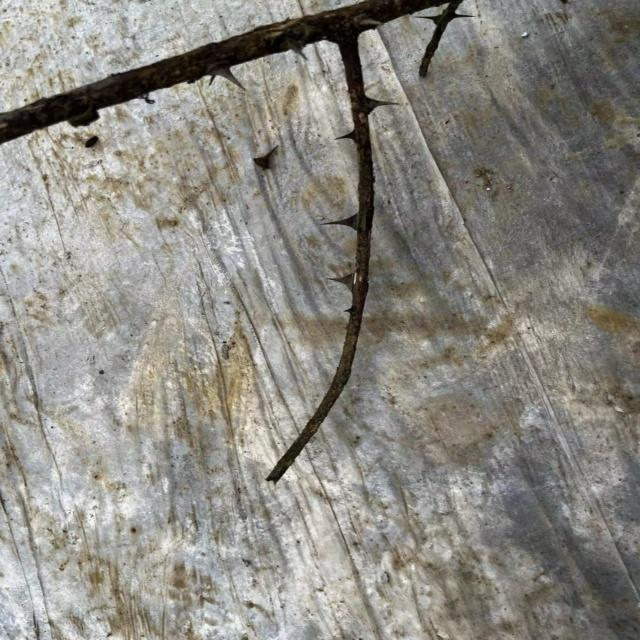branch: (0, 0, 470, 145), (268, 40, 376, 485)
